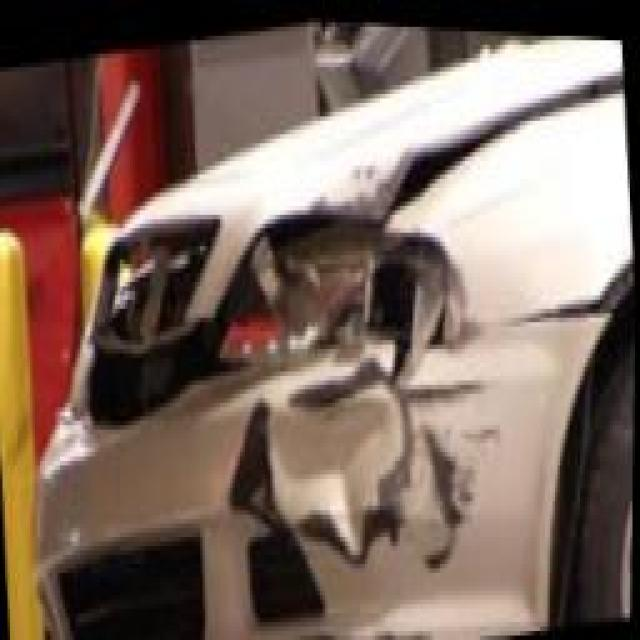replaceable: (119, 150, 471, 360), (243, 380, 495, 583)
